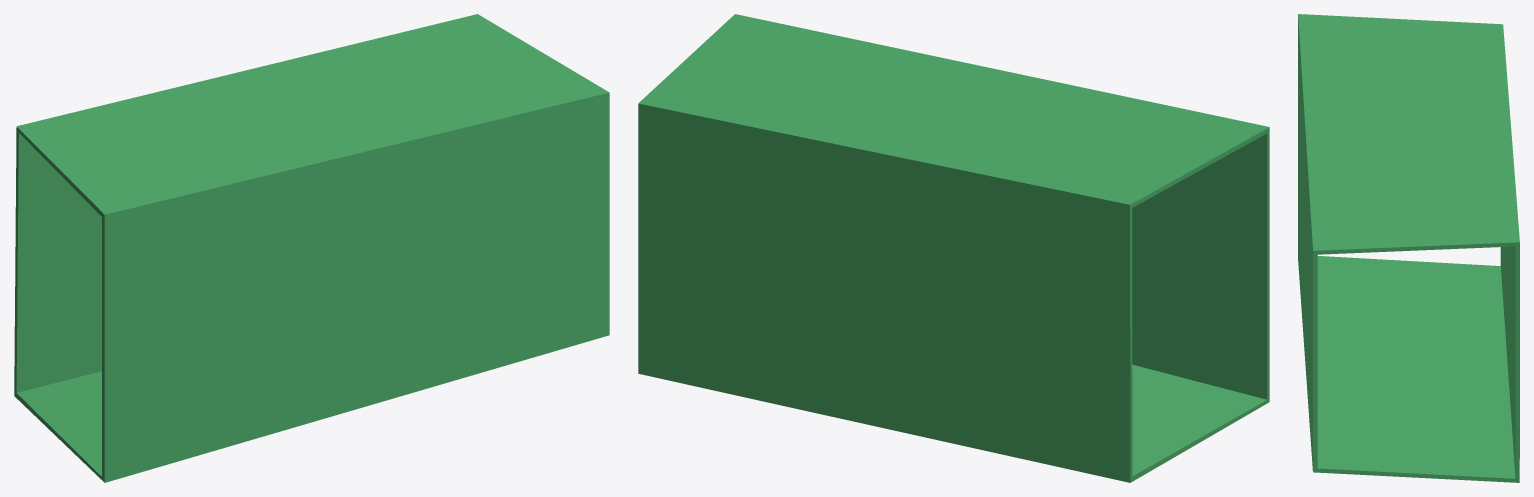
Rendered from Museum_Path_2.fbx.
The picture shows the model from 3 angles, left to right: view 1: azimuth 30°, elevation 25°; view 2: azimuth 150°, elevation 25°; view 3: azimuth 270°, elevation 25°; orthographic projection. The views are drawn at different scales.
Parts seen in each view (by area): view 1: Room_2_Path; view 2: Room_2_Path; view 3: Room_2_Path.
Boxes of the visible parts, x1=… form: Room_2_Path: x1=14, y1=14, x2=609, y2=482; Room_2_Path: x1=638, y1=14, x2=1269, y2=482; Room_2_Path: x1=1298, y1=14, x2=1519, y2=482.
Size of the model in its own units: 1067 by 542 by 438.
